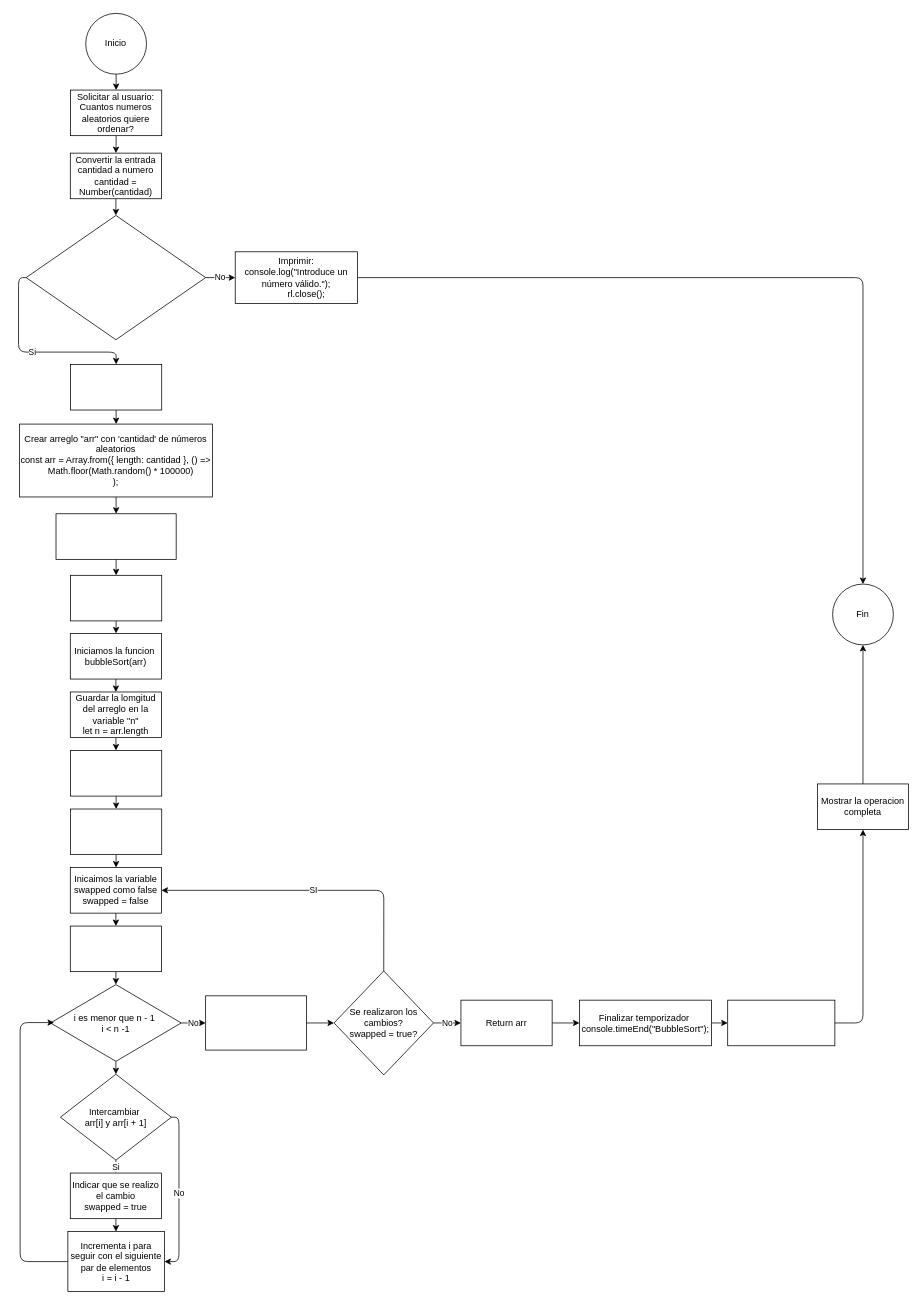
Some shapes in this 923 by 1305 pixel diagram are drawn without their labels. Here are the shapes that lost their labels. From the top down, the centre of each, then its label:
the point at 115,277: La cantidad es un numero valido? (isNaN(cantidad) || cantidad <= 0)
the point at 116,387: Generar un numero aleatorio entre 0 y 99999
the point at 115,536: Iniciar temporizador console.time("BubbleSort");
the point at 116,598: Llamamos a la funcion bubbleSort(arr)
the point at 116,773: Iniciamos la variable let swapped;
the point at 116,831: Inicamos el ciclo DO-WHILE
the point at 116,948: Comienza el índice i en 0 para recorrer el arreglo i = 0
the point at 256,1022: Reduce n para acotar el rango de comparación en el siguiente ciclo n--
the point at 781,1022: Imprimir console.log("Ordenación completada.");
